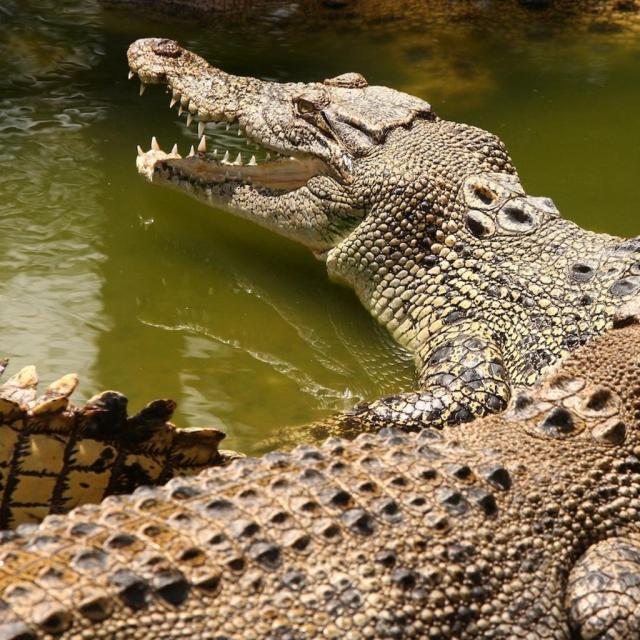crocodile: (0, 24, 639, 639)
